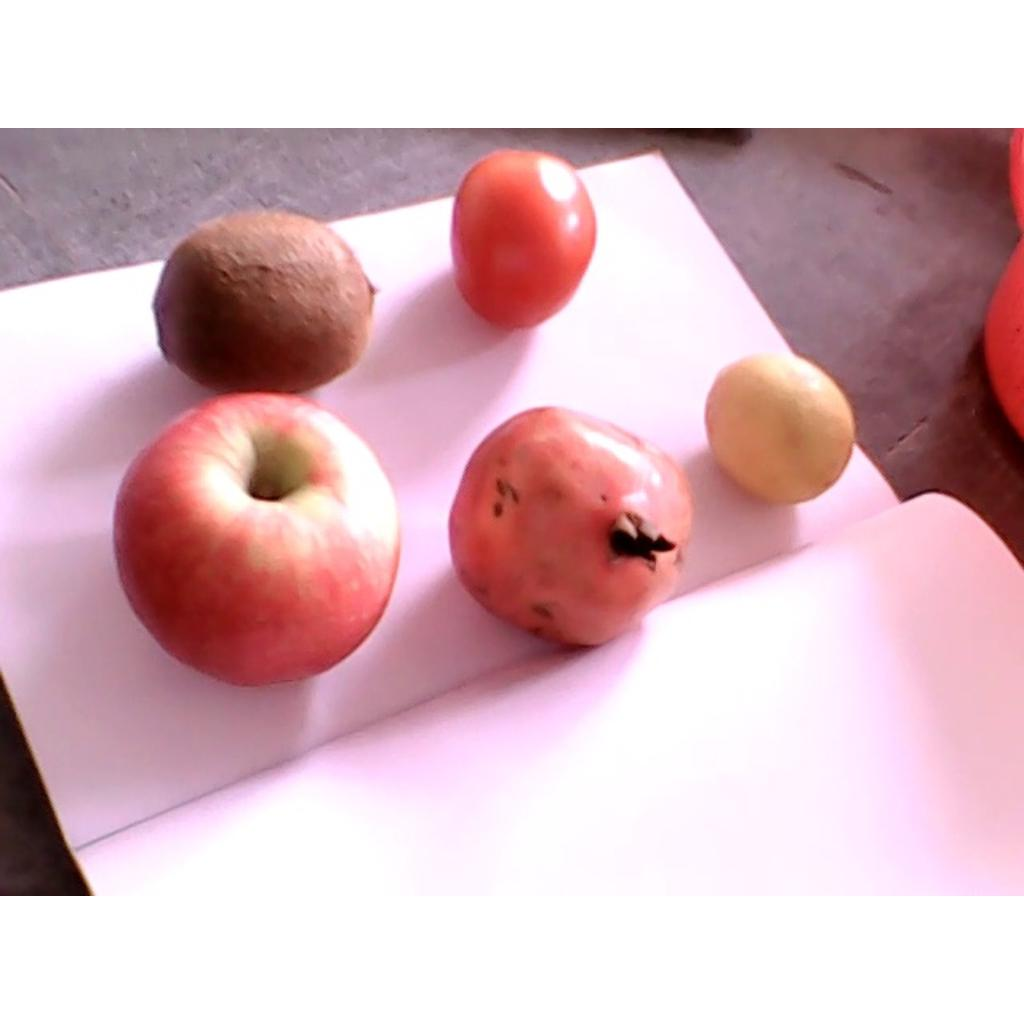apple: (112, 392, 400, 686)
kiwi: (154, 211, 374, 393)
lemon: (706, 353, 856, 503)
pomegranate: (448, 405, 697, 648)
tomato: (451, 149, 598, 329)
